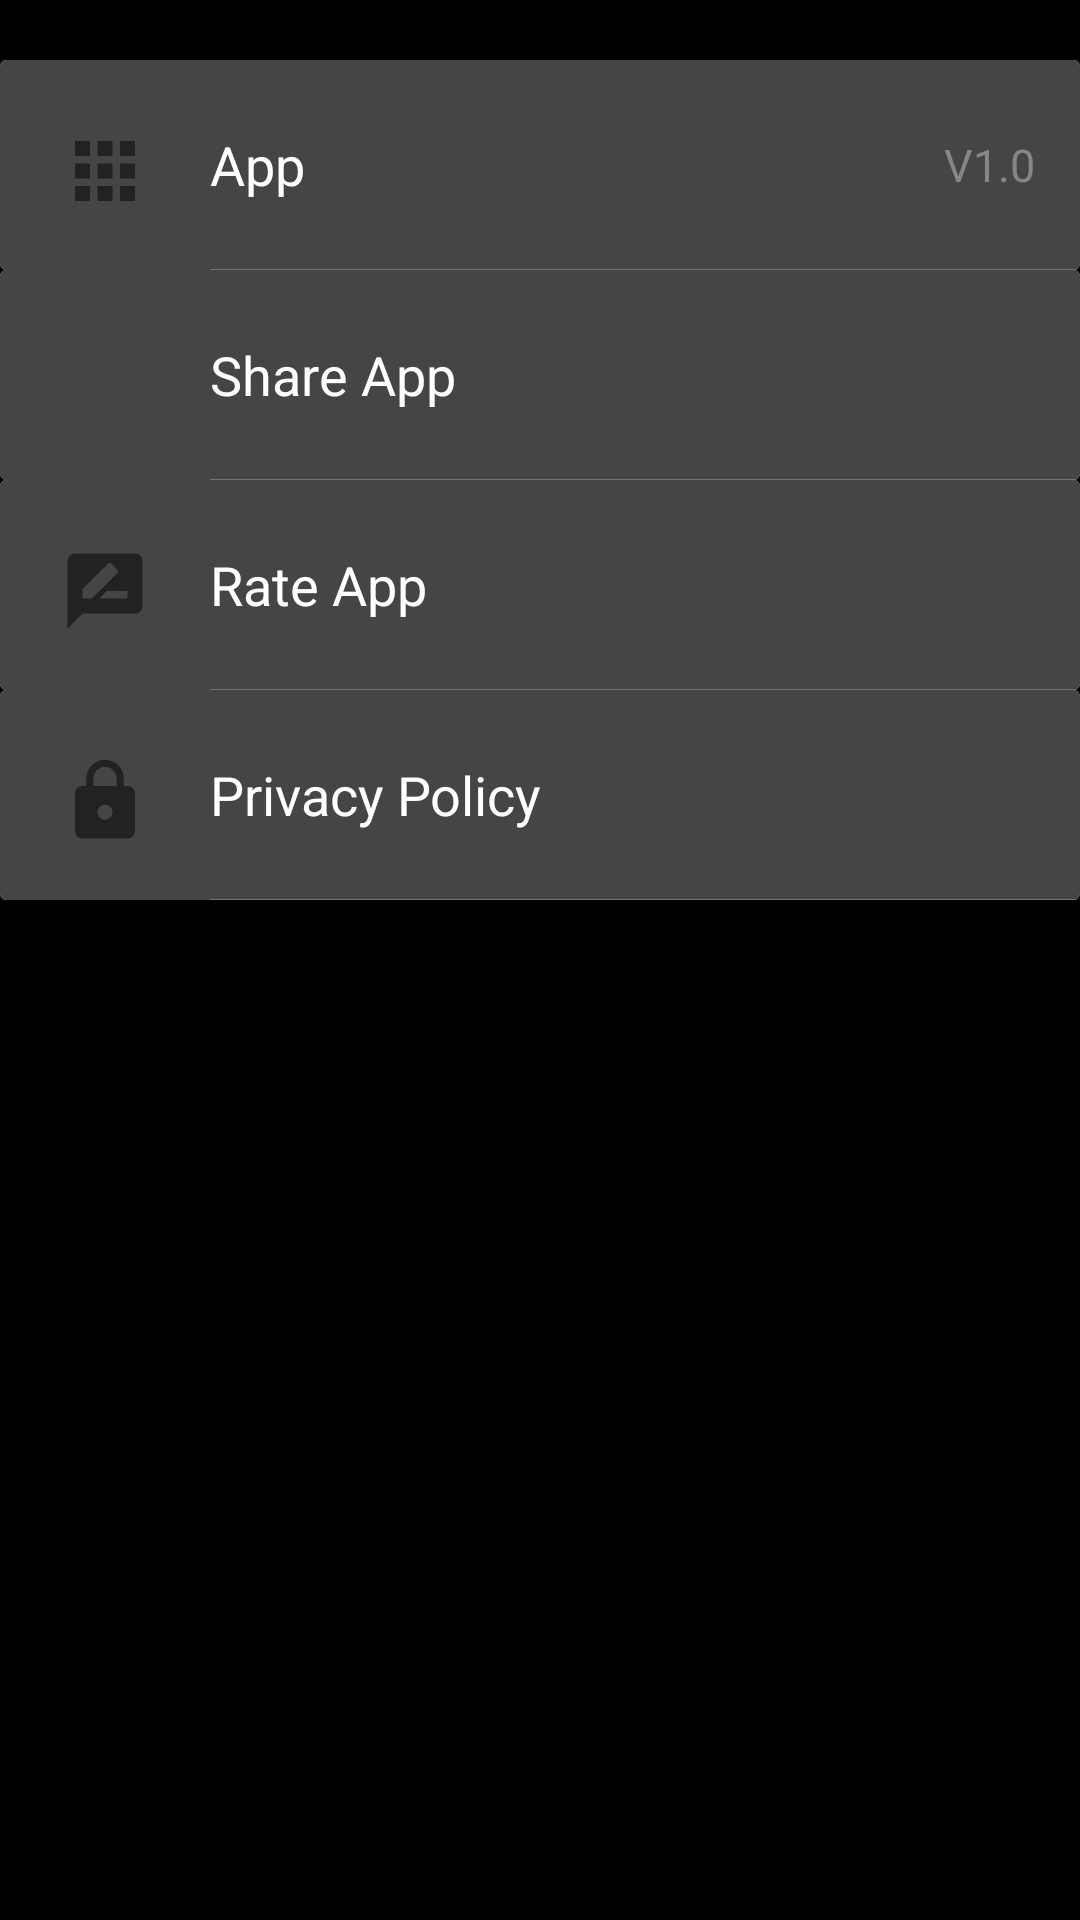

Where to tap for icons on this 1080 × 1920 app screen, as [x,y]:
apps: [105,171]
rate review: [105,590]
